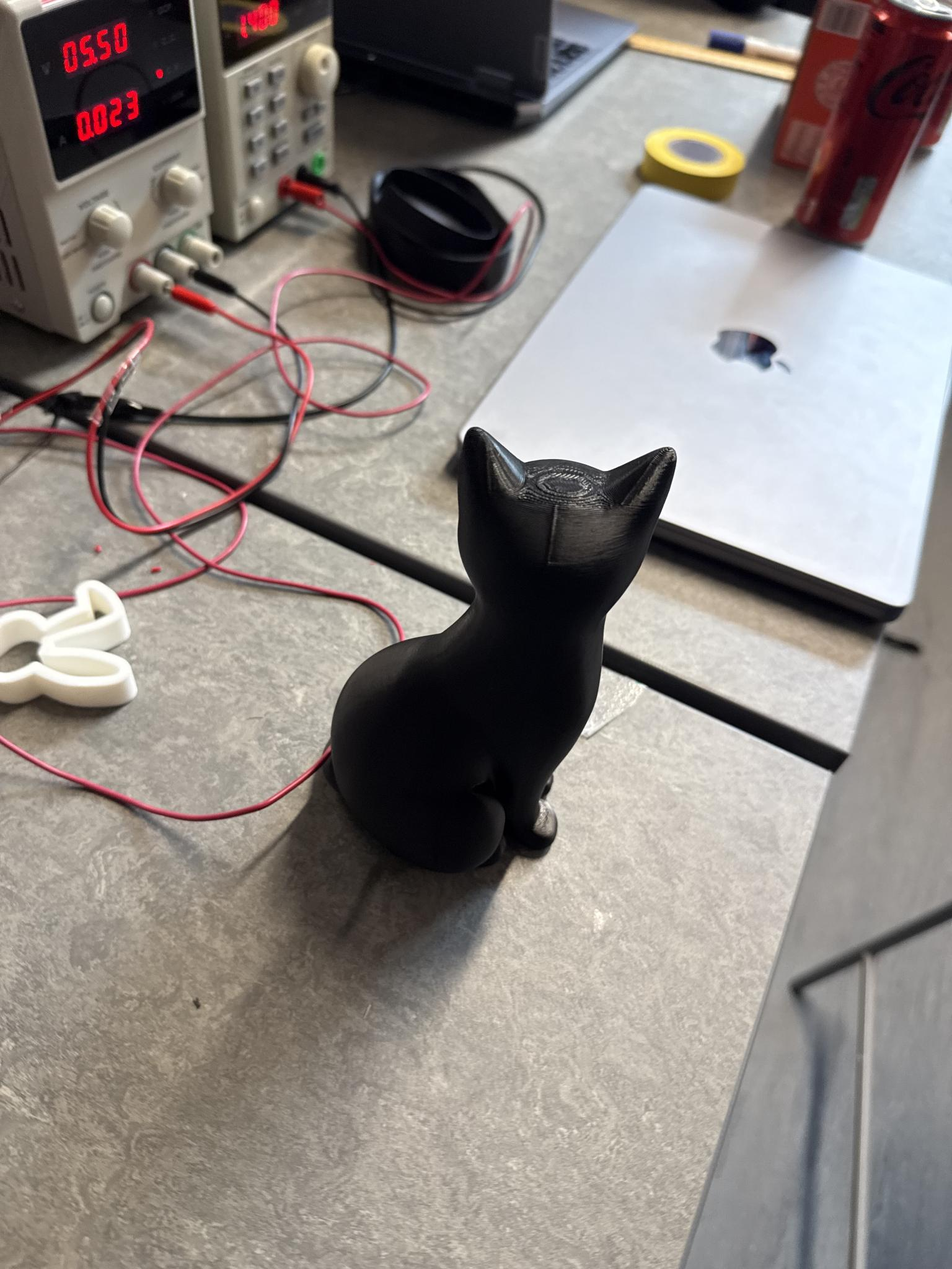cat: (324, 427, 676, 873)
